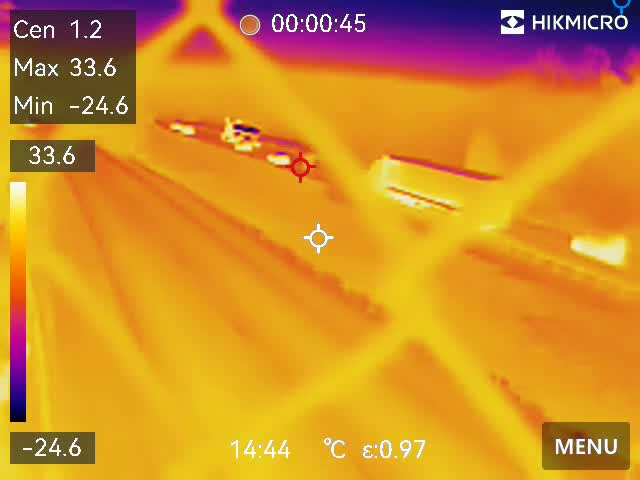heavyTruck: (366, 151, 512, 227), (221, 118, 260, 143)
smallCar: (264, 151, 289, 170), (232, 138, 250, 154)
vehicle: (179, 123, 194, 136), (169, 121, 181, 131)
